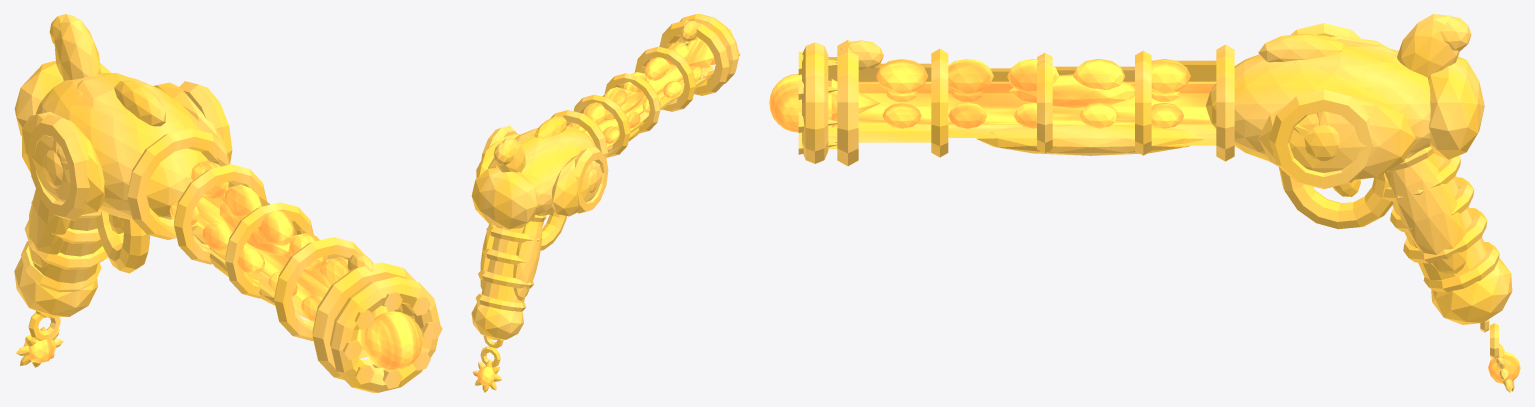
The model's file is flame_pistol.glb.
3 views of the same model, side by side, from view 1: azimuth 30°, elevation 25°; view 2: azimuth 150°, elevation 25°; view 3: azimuth 270°, elevation 25° (orthographic). The views are drawn at different scales.
Visible parts, largest first — view 1: metal, glow; view 2: metal, glow; view 3: metal, glow.
Boxes of the visible parts, x1,y1,x2,y2 form: metal: [14, 14, 442, 392]; glow: [24, 160, 422, 370]; metal: [471, 14, 740, 392]; glow: [477, 36, 715, 386]; metal: [798, 14, 1514, 392]; glow: [769, 59, 1520, 383].
Bounding box in the file's own units: 0.116 × 0.2527 × 0.458.
Materials: 2 (2 with a texture image).
